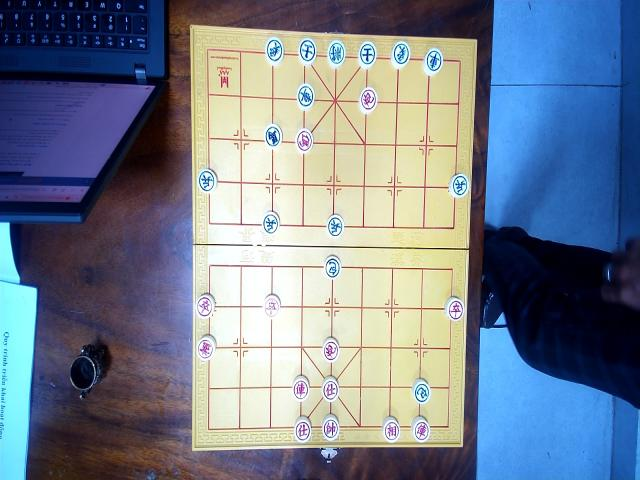piece: (422, 47, 443, 76), (326, 39, 346, 68), (265, 36, 285, 65), (448, 172, 469, 199), (390, 42, 410, 70), (196, 335, 216, 362), (411, 378, 431, 405), (358, 87, 378, 114), (444, 296, 464, 322), (381, 416, 400, 443), (411, 416, 430, 443), (296, 83, 315, 110), (298, 38, 316, 66), (197, 168, 217, 193), (295, 127, 314, 153), (294, 416, 312, 443), (322, 414, 340, 441), (322, 337, 340, 364), (264, 123, 282, 150), (358, 41, 376, 68), (196, 294, 214, 320), (292, 375, 310, 401), (326, 213, 344, 238), (321, 377, 339, 402), (263, 294, 281, 318), (262, 212, 280, 236), (324, 254, 342, 278)
